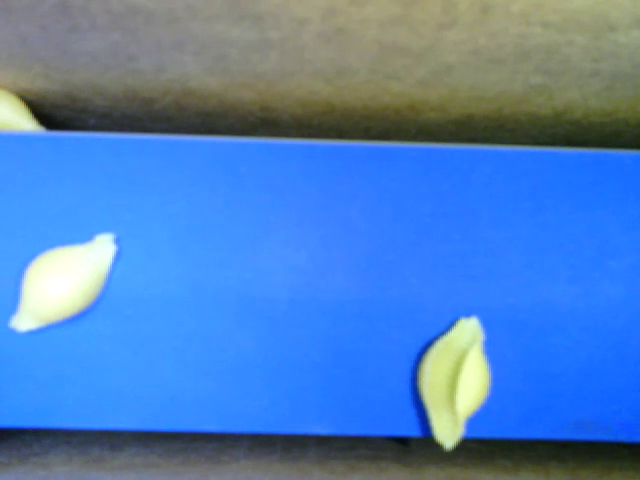shell: (8, 229, 114, 334), (415, 312, 489, 449), (1, 90, 50, 134)
